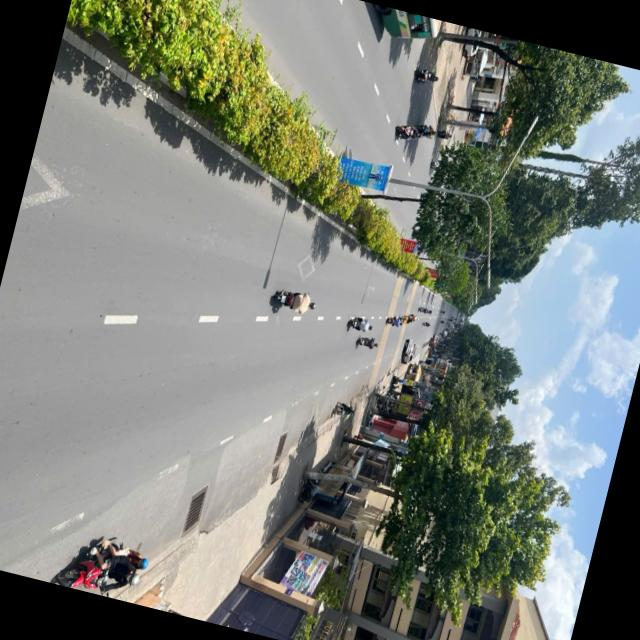car: (392, 334, 423, 371)
motobyte: (48, 516, 158, 605), (266, 277, 322, 322), (341, 309, 378, 338), (348, 330, 382, 360), (388, 120, 422, 148), (408, 62, 442, 90), (409, 117, 442, 145), (411, 302, 436, 318)
